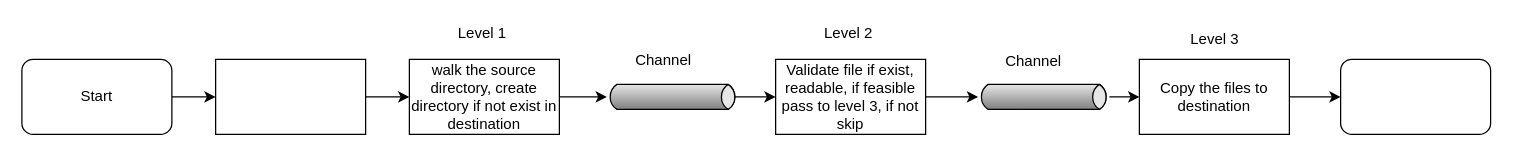
This 1513x156 diagram has some shape labels left out. The centre of each missing label's shape, as x and y in pixels:
End: the point at 1415,96
validate the source and destination root: the point at 290,96
